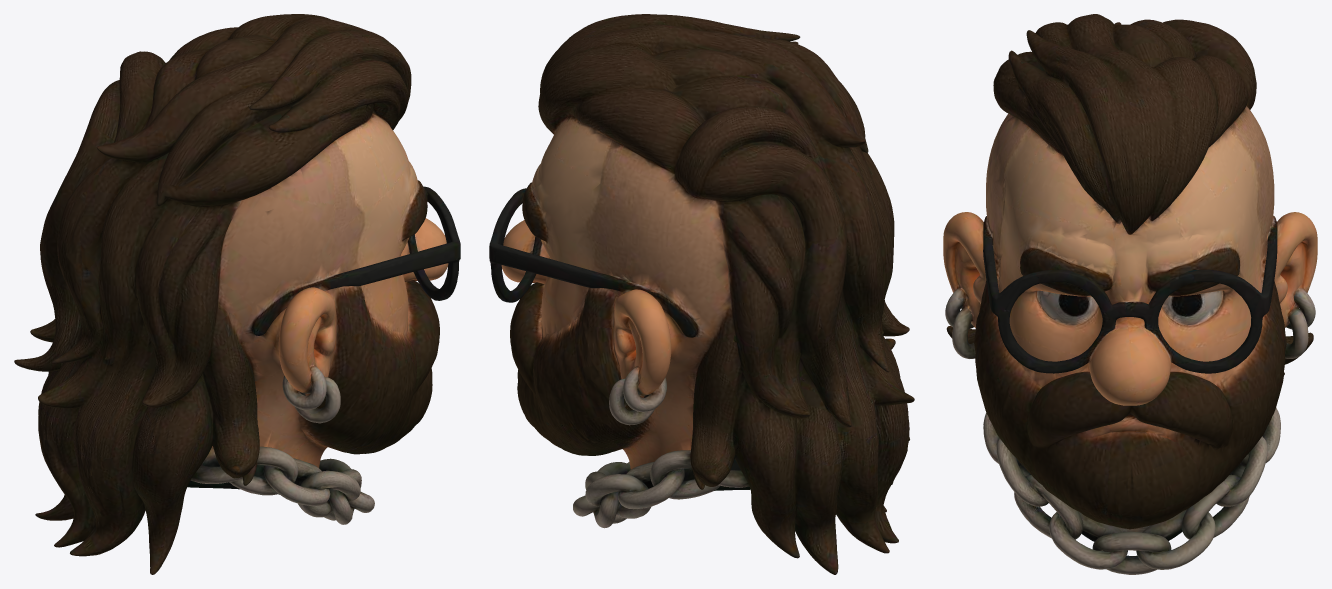
Rendered from toinHD_3MB_BALANCEADO_sem_draco.glb.
3 renders of one model, left to right at view 1: azimuth 30°, elevation 25°; view 2: azimuth 150°, elevation 25°; view 3: azimuth 270°, elevation 25°, orthographic.
Visible parts, largest first — view 1: tripo_node_300b413b-4f5f-4241-ac6c-c9a180706542; view 2: tripo_node_300b413b-4f5f-4241-ac6c-c9a180706542; view 3: tripo_node_300b413b-4f5f-4241-ac6c-c9a180706542.
Part boxes in pixels (x1,y1,x2,y2): tripo_node_300b413b-4f5f-4241-ac6c-c9a180706542: (14,14,460,574); tripo_node_300b413b-4f5f-4241-ac6c-c9a180706542: (489,14,914,574); tripo_node_300b413b-4f5f-4241-ac6c-c9a180706542: (943,14,1317,574).
Bounding box in the file's own units: 0.8599 × 0.9999 × 0.6745.
Materials: 1 (1 with a texture image).
